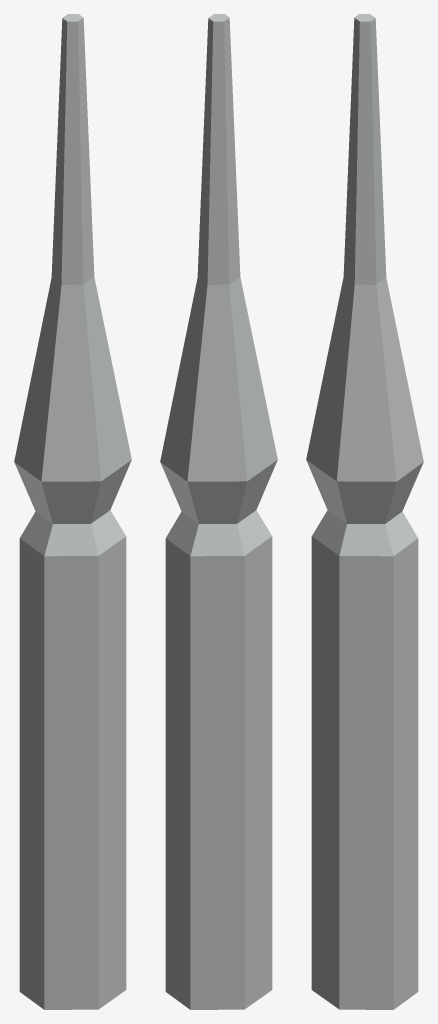
Rendered from SM_Bld_Mansion_Pole_02.glb.
The picture shows the model from 3 angles, left to right: view 1: azimuth 30°, elevation 25°; view 2: azimuth 210°, elevation 25°; view 3: azimuth 330°, elevation 25°; orthographic projection.
Visible parts, largest first — view 1: SM_Bld_Mansion_Pole_02_part00; view 2: SM_Bld_Mansion_Pole_02_part00; view 3: SM_Bld_Mansion_Pole_02_part00.
Boxes of the visible parts, box(x1,y1,x2,y2) form: SM_Bld_Mansion_Pole_02_part00: box(14, 14, 131, 1009); SM_Bld_Mansion_Pole_02_part00: box(160, 14, 277, 1009); SM_Bld_Mansion_Pole_02_part00: box(306, 14, 423, 1009).
Size of the model in its own units: 0.2261 by 2.32 by 0.2444.
Materials: 1 (1 with a texture image).
